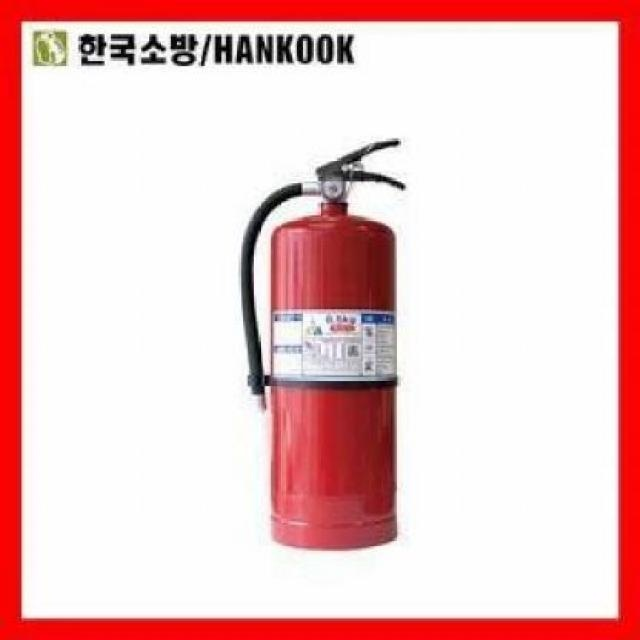fire extinguisher: (238, 137, 407, 551)
